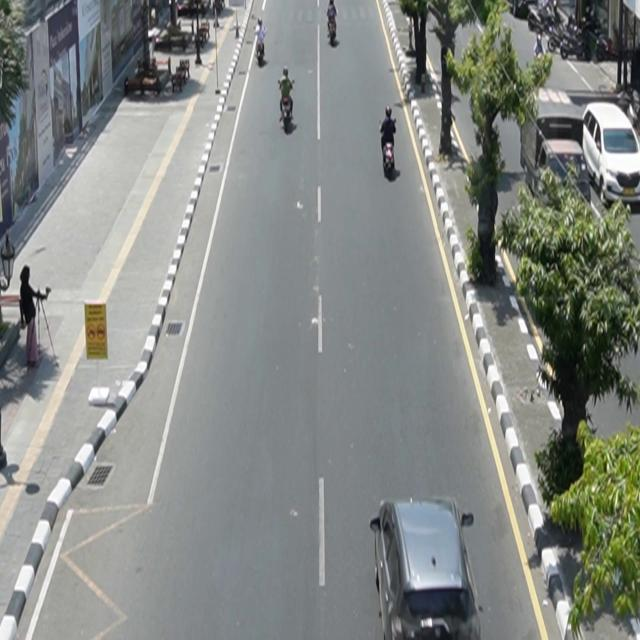car: (371, 497, 483, 640), (583, 101, 640, 209)
